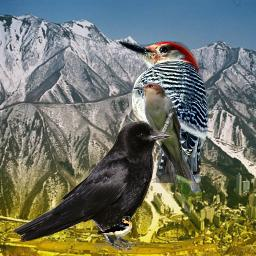Crow: (12, 120, 172, 251)
Cuckoo: (133, 82, 202, 213)
Swallow: (88, 216, 132, 239)
Woodpecker: (112, 33, 213, 183)
